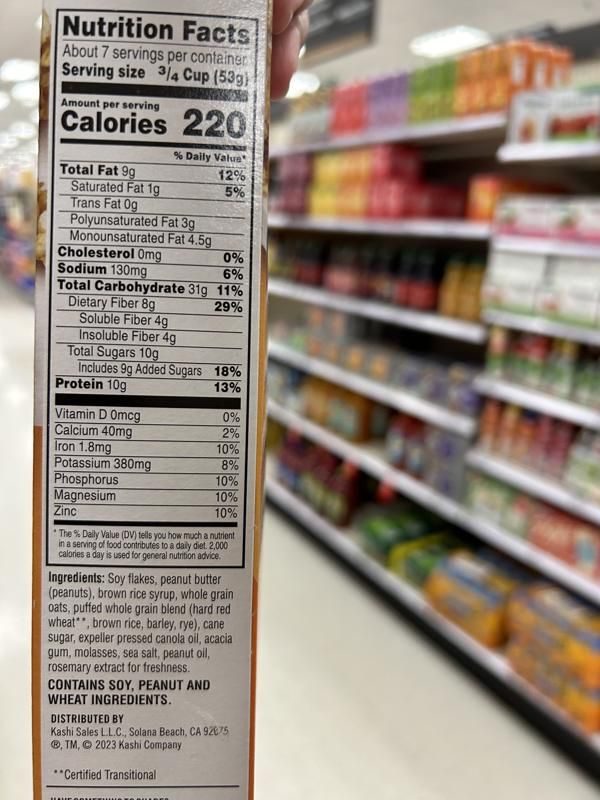ingredients: (46, 570, 234, 675)
